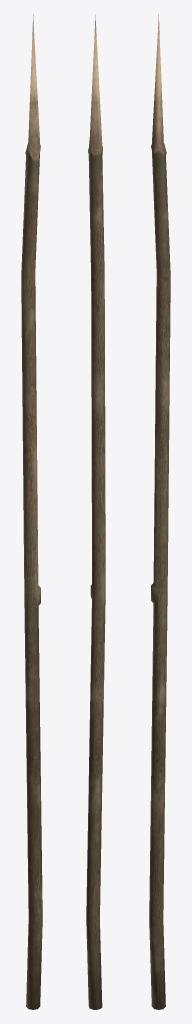
The model's file is SM_Spear_07.fbx.
3 renders of one model, left to right at view 1: azimuth 90°, elevation 25°; view 2: azimuth 210°, elevation 25°; view 3: azimuth 270°, elevation 25°, orthographic.
Visible parts, largest first — view 1: SM_Spear_07_LOD0; view 2: SM_Spear_07_LOD0; view 3: SM_Spear_07_LOD0.
Boxes of the visible parts, x1,y1,x2,y2 form: SM_Spear_07_LOD0: [21, 14, 42, 1009]; SM_Spear_07_LOD0: [86, 14, 105, 1009]; SM_Spear_07_LOD0: [149, 14, 170, 1009].
Bounding box in the file's own units: 3.07 × 3.61 × 184.
Materials: 1 (1 with a texture image).
